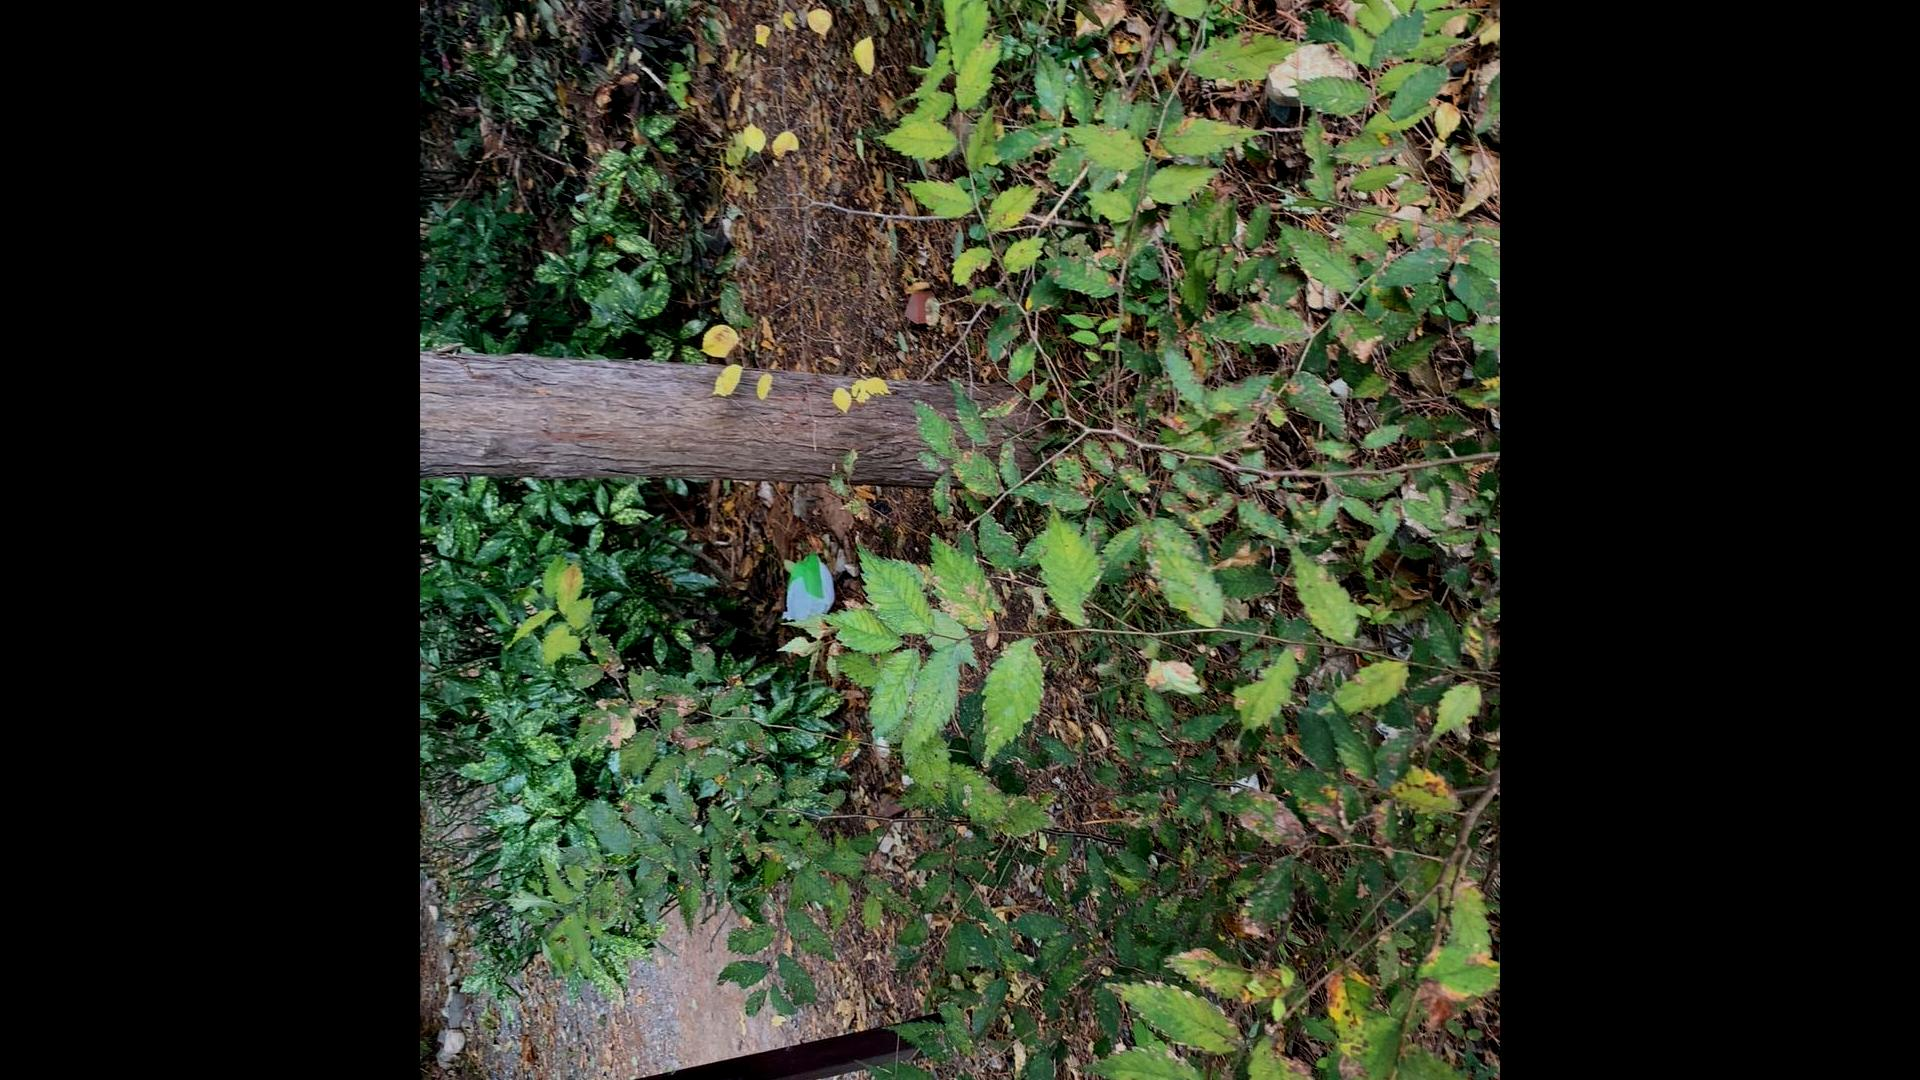white_bag: (774, 549, 837, 636)
